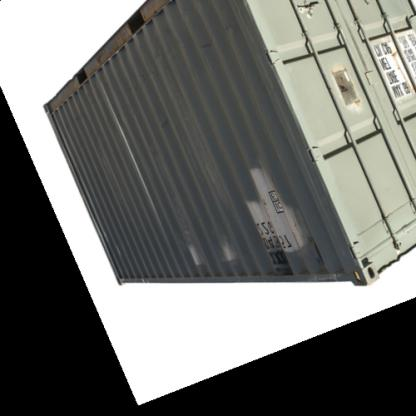Damage: (326, 62, 364, 115), (212, 233, 244, 273), (174, 226, 202, 269), (154, 106, 173, 132), (193, 42, 221, 56)
